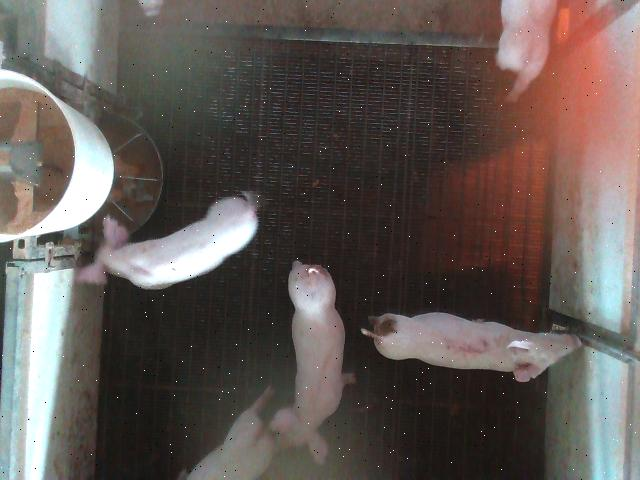pig-5: (361, 312, 581, 382)
